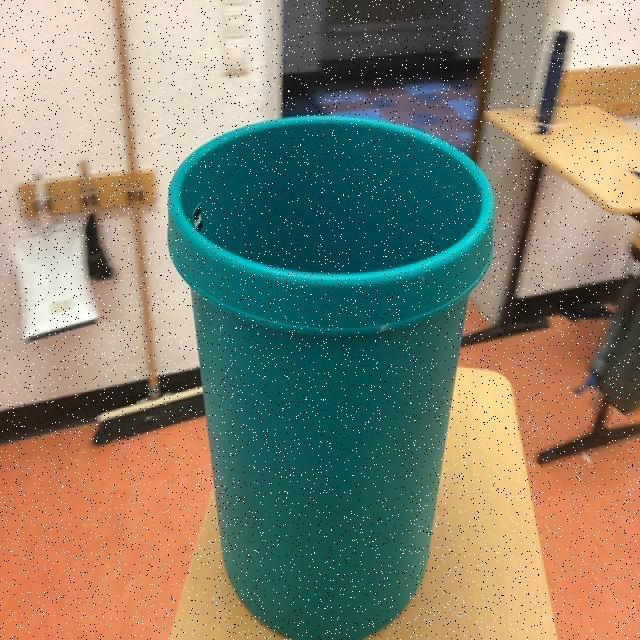garbage container: (130, 27, 515, 640)
